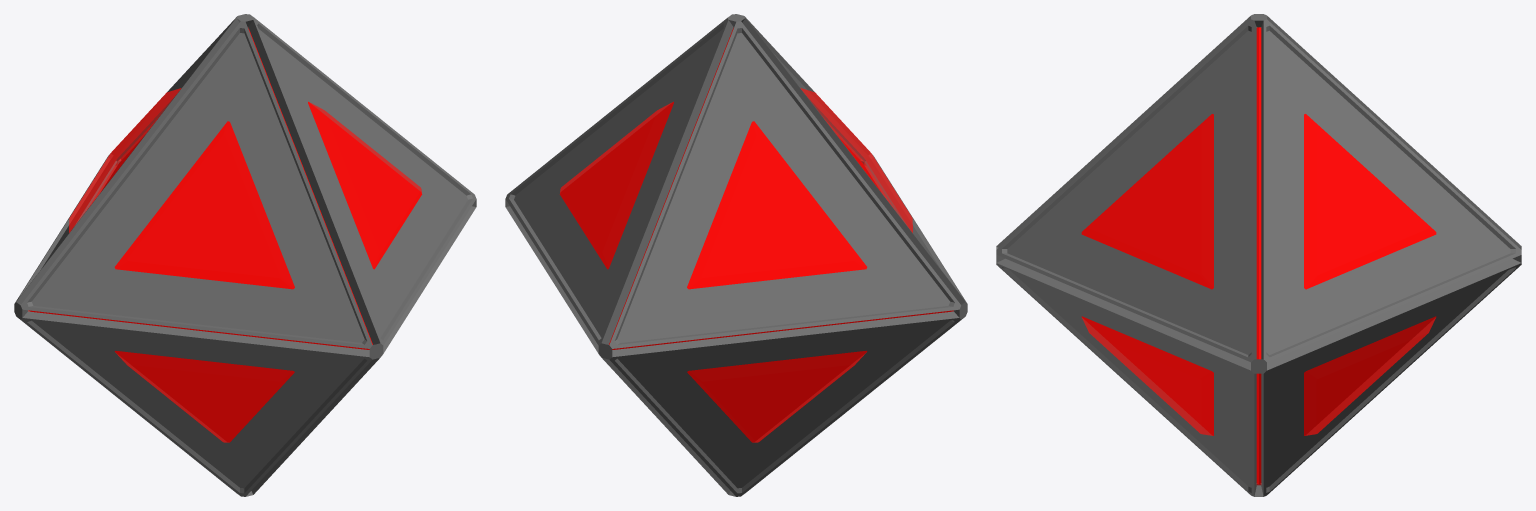
The model's file is bomb.glb.
The picture shows the model from 3 angles, left to right: view 1: azimuth 30°, elevation 25°; view 2: azimuth 150°, elevation 25°; view 3: azimuth 270°, elevation 25°; orthographic projection.
Parts seen in each view (by area): view 1: Cube.001; view 2: Cube.001; view 3: Cube.001.
Part boxes in pixels (box(x1,y1,x2,y2)): Cube.001: box(14, 14, 476, 496); Cube.001: box(505, 14, 967, 496); Cube.001: box(996, 14, 1521, 496).
Size of the model in its own units: 1.91 by 1.91 by 1.91.
